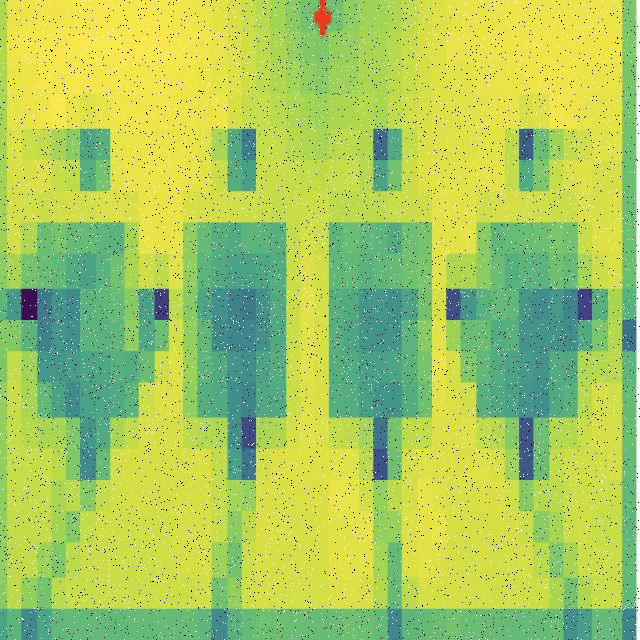Concrete: (24, 209, 148, 432)
Glass: (468, 194, 584, 433)
Metal: (176, 206, 292, 446)
Wood: (320, 201, 444, 443)
